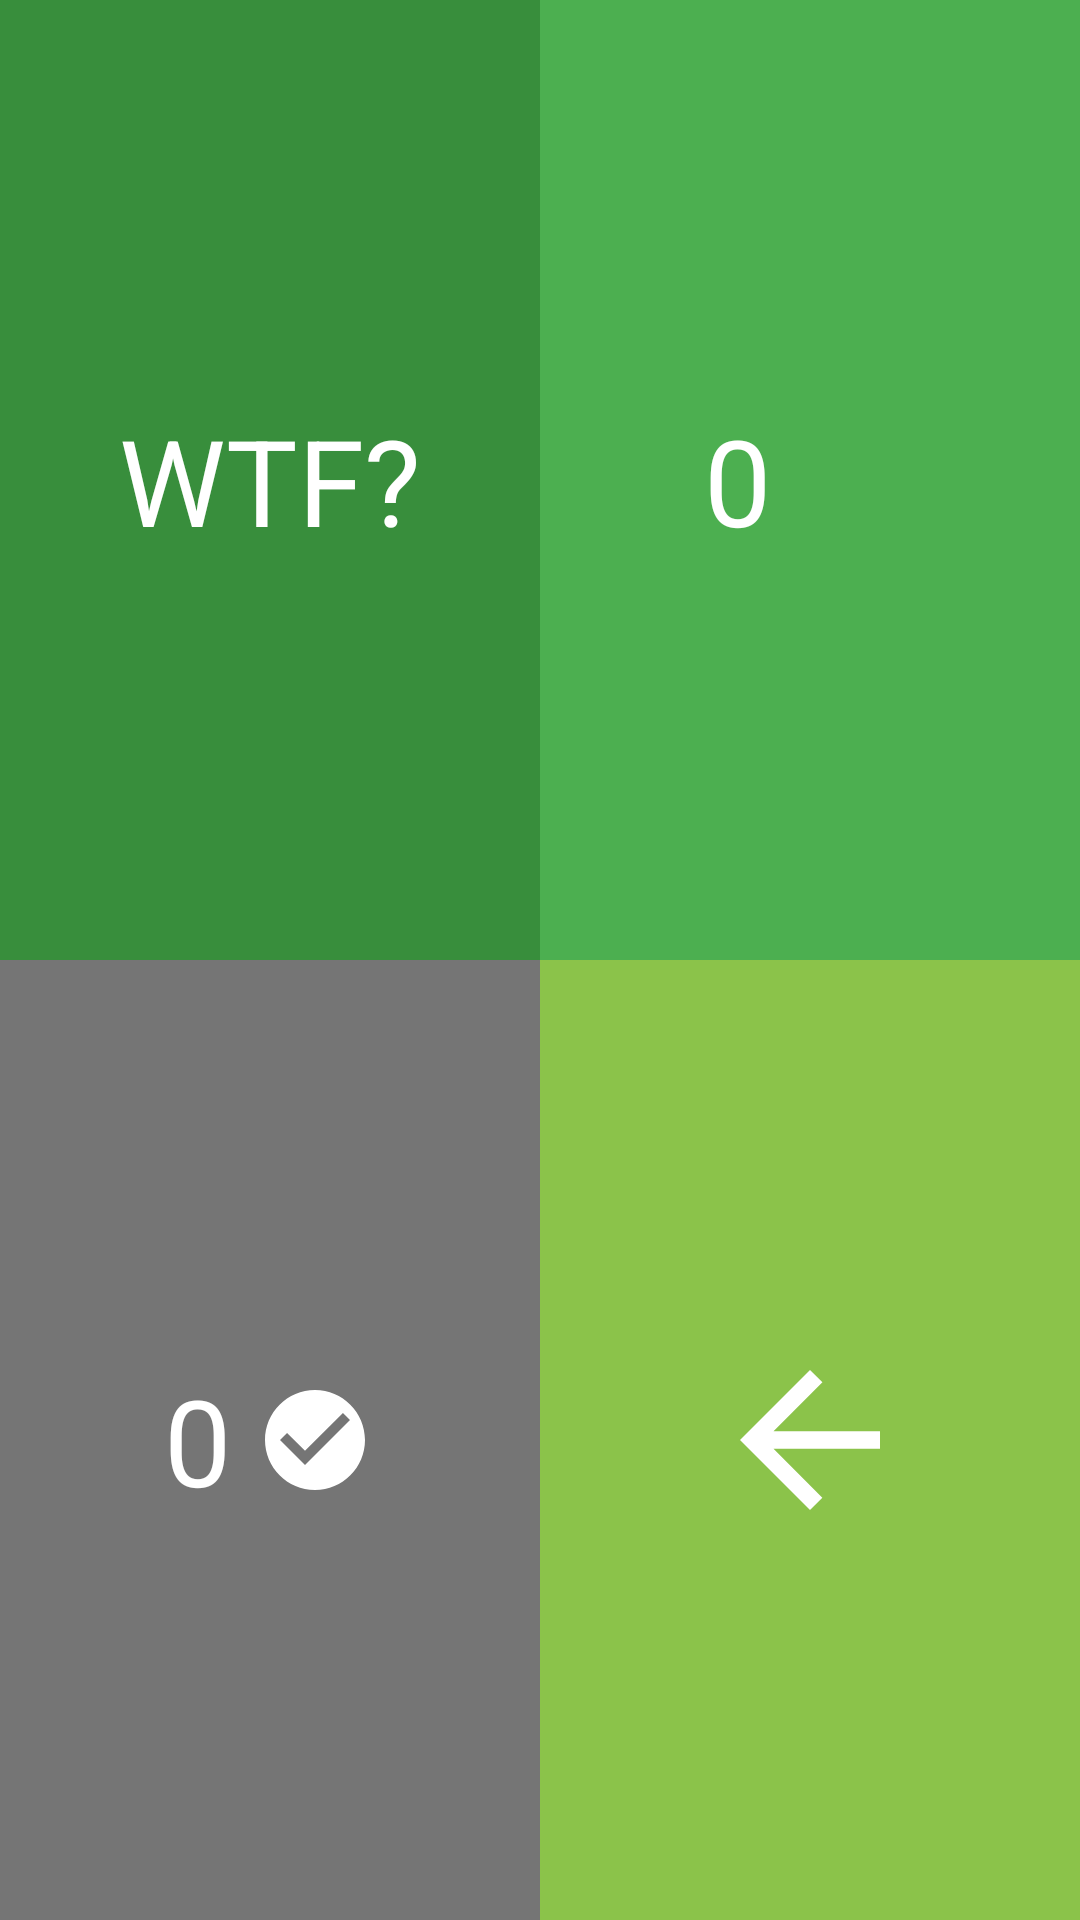

Where icons sit on this 1080px×1920px app screen, as (x1, y1, x2, y2):
arrow back: (740, 1370, 880, 1510)
task: (265, 1390, 365, 1490)
